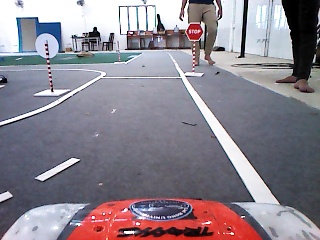stop: (184, 21, 205, 42)
